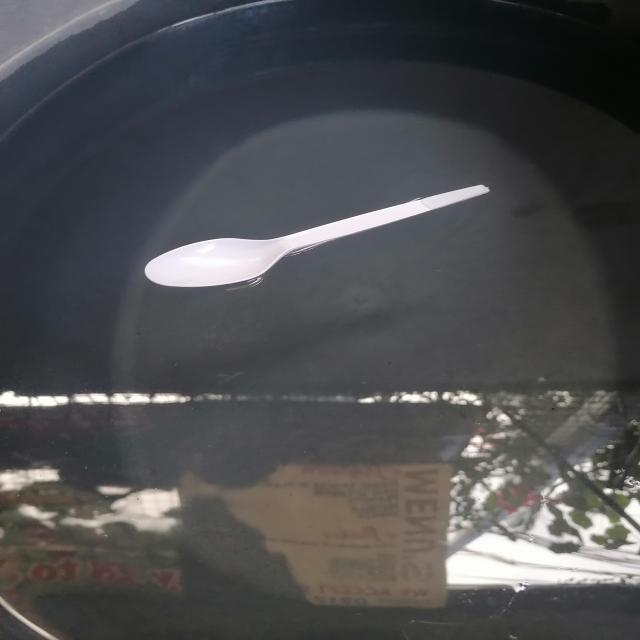Plastic Spoon: (145, 185, 489, 287)
